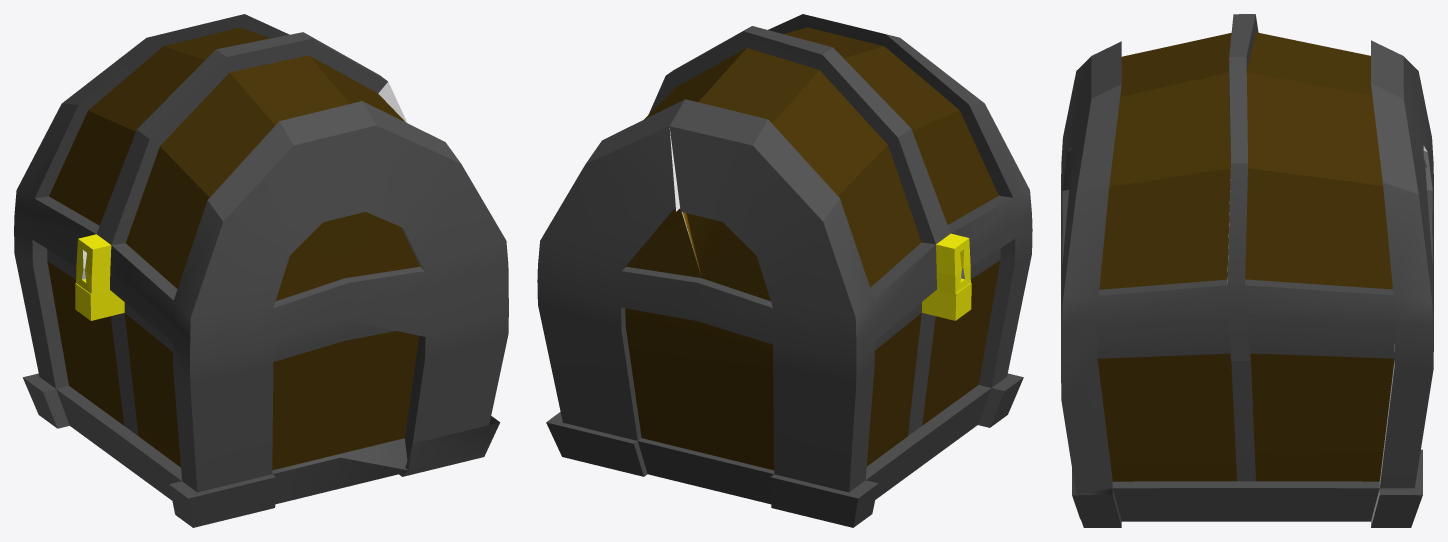
File: Chest.fbx
The picture shows the model from 3 angles, left to right: view 1: azimuth 30°, elevation 25°; view 2: azimuth 150°, elevation 25°; view 3: azimuth 270°, elevation 25°; orthographic projection. The views are drawn at different scales.
Visible parts, largest first — view 1: pCylinder4; view 2: pCylinder4; view 3: pCylinder4.
Boxes of the visible parts, x1=… form: pCylinder4: x1=14, y1=14, x2=508, y2=527; pCylinder4: x1=537, y1=14, x2=1032, y2=527; pCylinder4: x1=1061, y1=14, x2=1433, y2=527.
Bounding box in the file's own units: 2.79 × 2.51 × 3.1.
